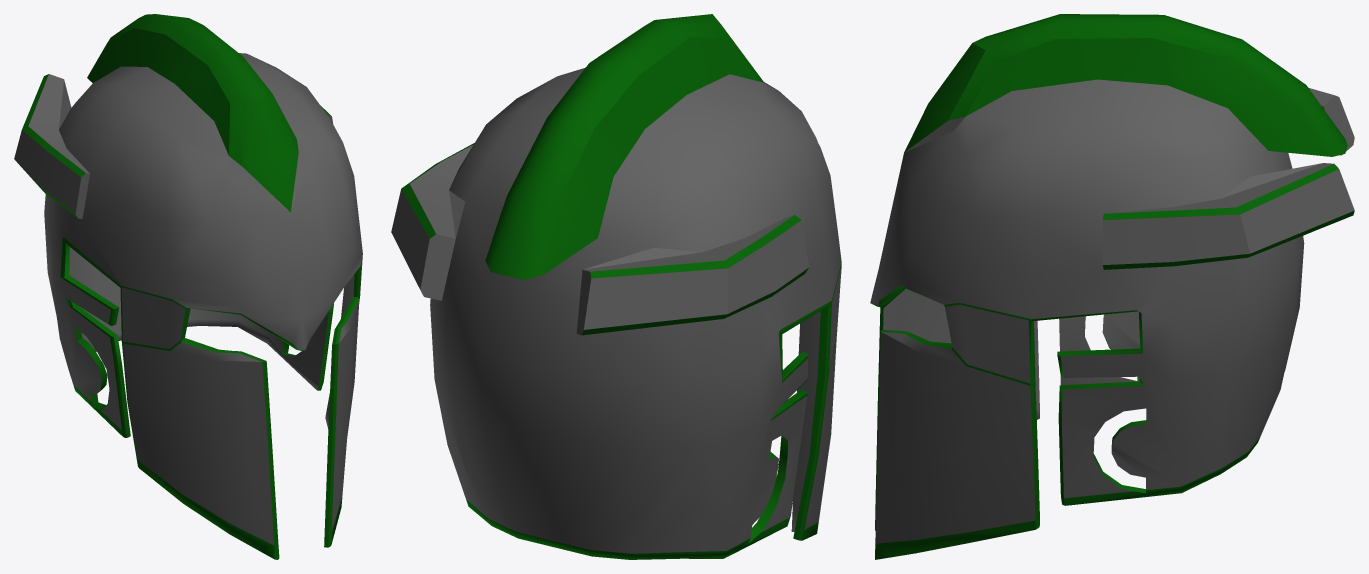
The model's file is power_helm.fbx.
3 renders of one model, left to right at view 1: azimuth 30°, elevation 25°; view 2: azimuth 150°, elevation 25°; view 3: azimuth 270°, elevation 25°, orthographic. The views are drawn at different scales.
Visible parts, largest first — view 1: Helmet1; view 2: Helmet1; view 3: Helmet1.
Part boxes in pixels (x1,y1,x2,y2): Helmet1: (14,14,362,559); Helmet1: (391,14,841,559); Helmet1: (870,14,1354,559).
Bounding box in the file's own units: 18.5 × 29.26 × 24.36.
